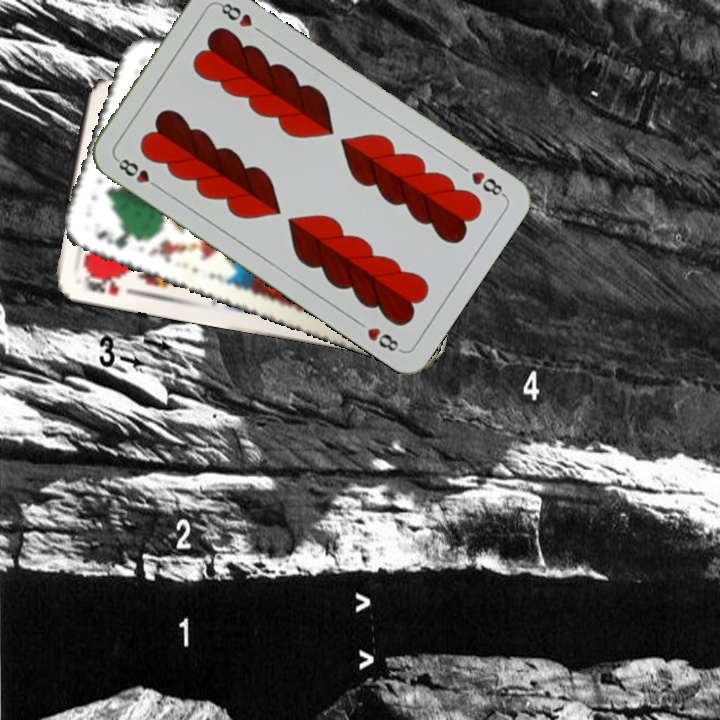GK: (92, 226, 143, 252)
H8: (112, 154, 164, 192), (467, 167, 508, 199)
HK: (80, 268, 123, 299)
